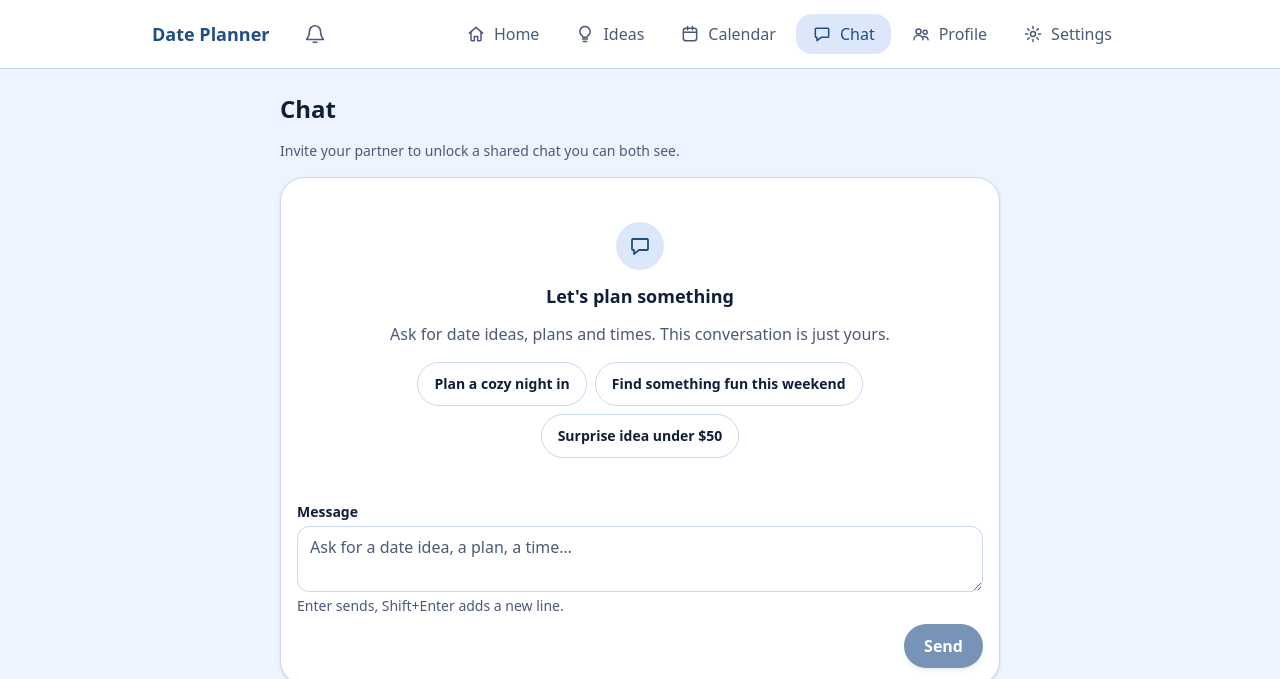
Test: ChatPage sending › shows the planner message when the planner is unavailable (503)
The width and height of the screenshot is (1280, 679).
In the text box labelled "Message": (640, 559) [297, 526, 983, 592], type "Plan something"
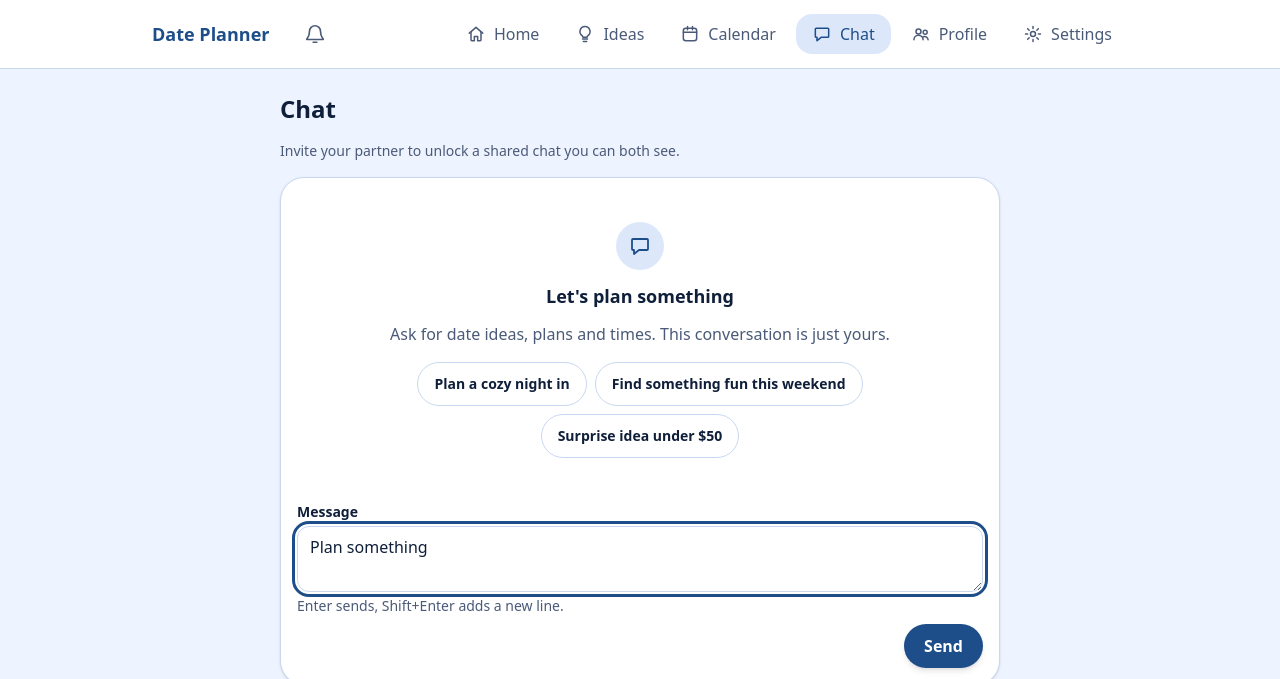
Expected: the button "Send" is enabled
Click the button "Send": (944, 646) [904, 624, 983, 668]
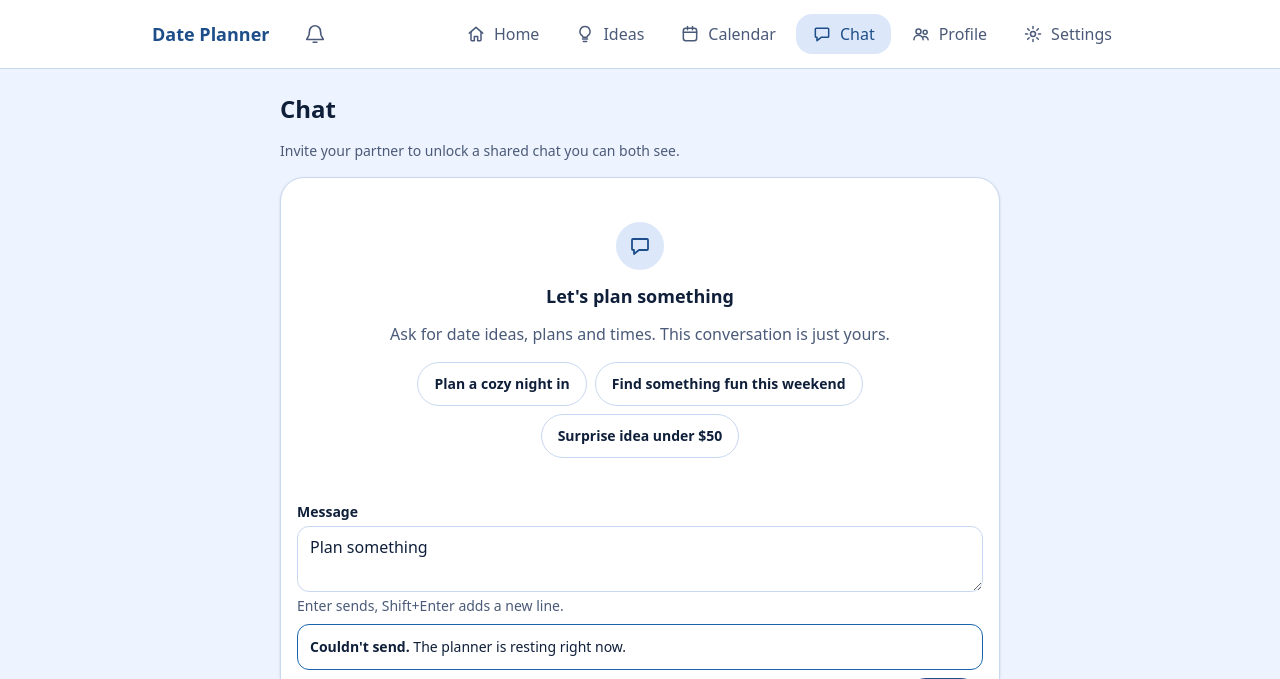
Expected: the message shows "The planner is resting right now.", [413, 637, 626, 656]
